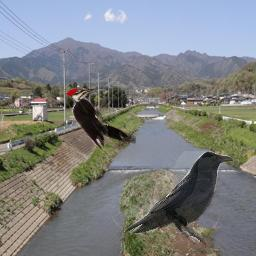Crow: (124, 151, 234, 242)
Woodpecker: (64, 88, 136, 150)
